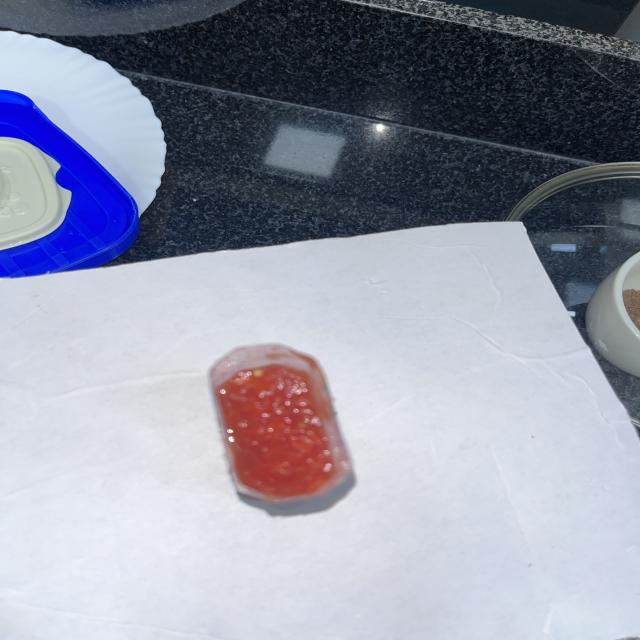blended_tomatoes_pepper: (218, 365, 341, 497)
